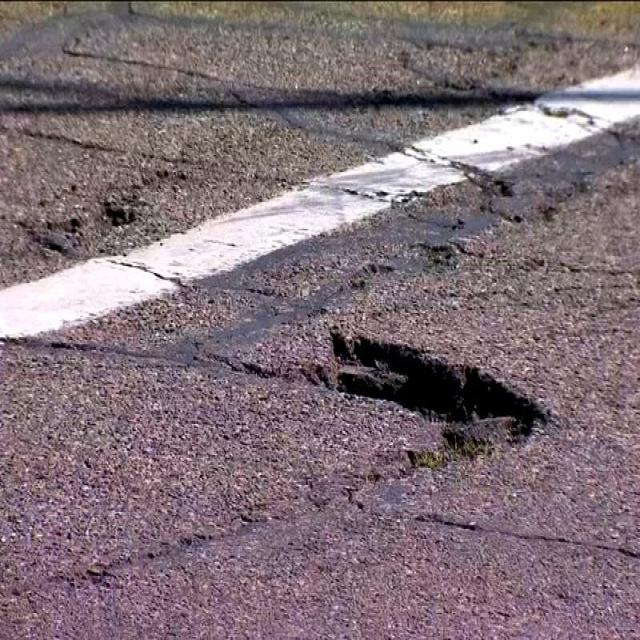pothole: (322, 325, 544, 443)
